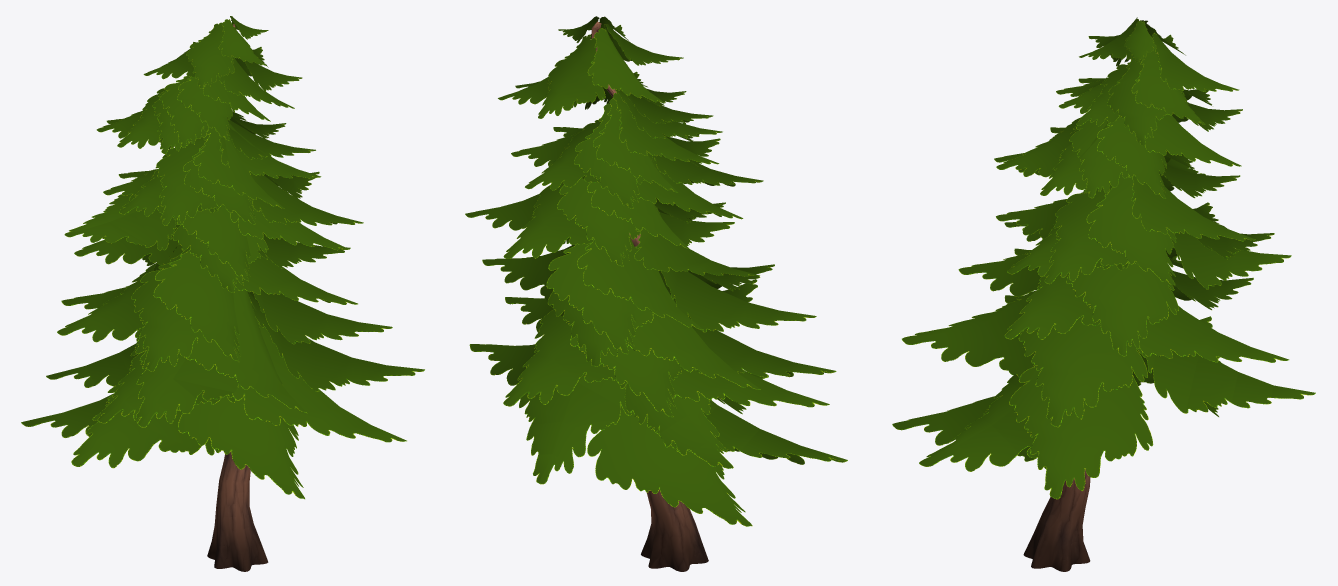
File: Pine_5.gltf
The picture shows the model from 3 angles, left to right: view 1: azimuth 30°, elevation 25°; view 2: azimuth 150°, elevation 25°; view 3: azimuth 270°, elevation 25°; orthographic projection. The views are drawn at different scales.
Visible parts, largest first — view 1: Pine_5; view 2: Pine_5; view 3: Pine_5.
Boxes of the visible parts, bbox=[...] form: Pine_5: bbox=[21, 16, 424, 571]; Pine_5: bbox=[465, 16, 847, 571]; Pine_5: bbox=[892, 17, 1315, 571].
Bounding box in the file's own units: 6.42 × 8.72 × 6.22.
Materials: 2 (2 with a texture image).
